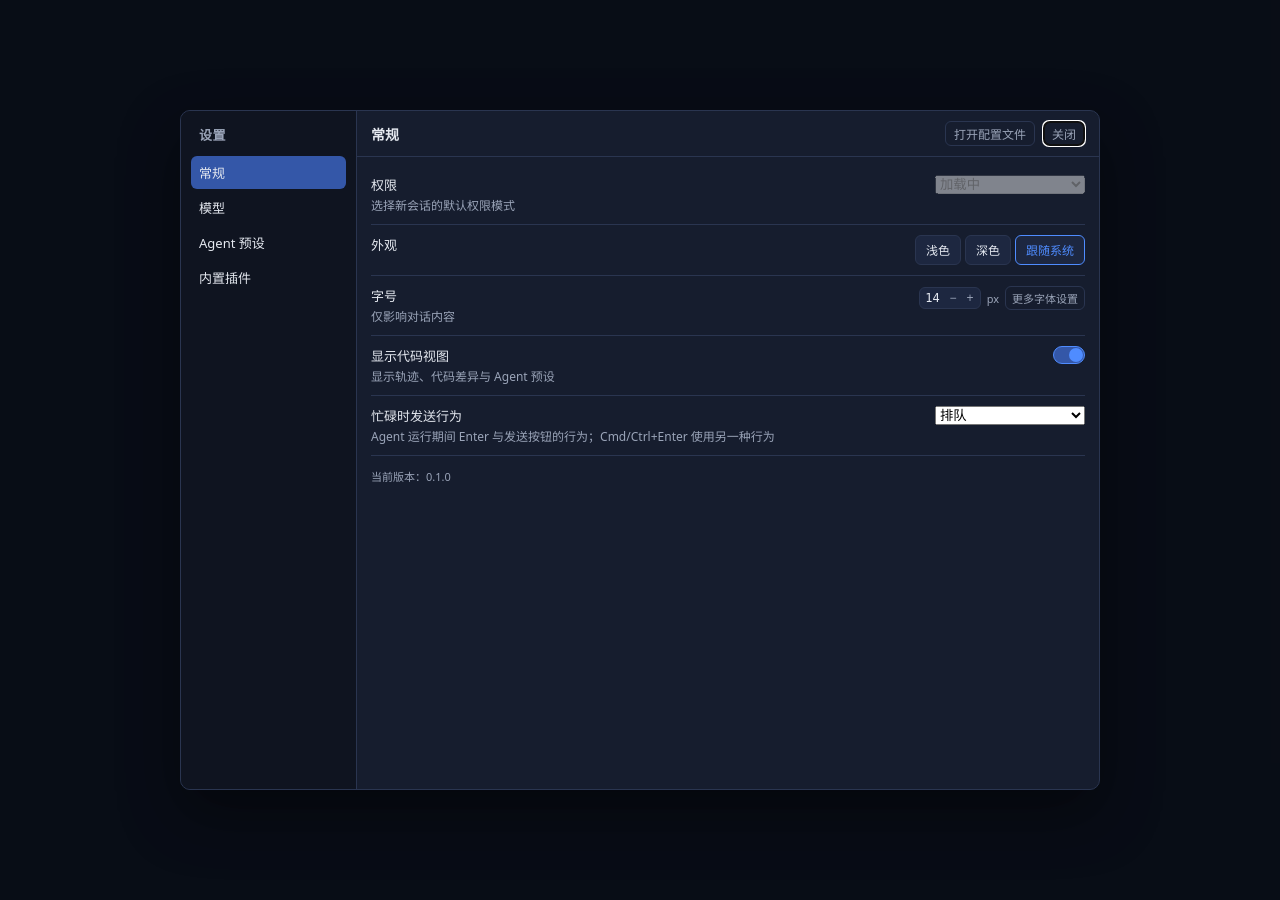
SettingsAgentPresets › lists presets and loads document content on expand
Click the button "Agent 预设" at (268, 242), box [191,226,346,259]
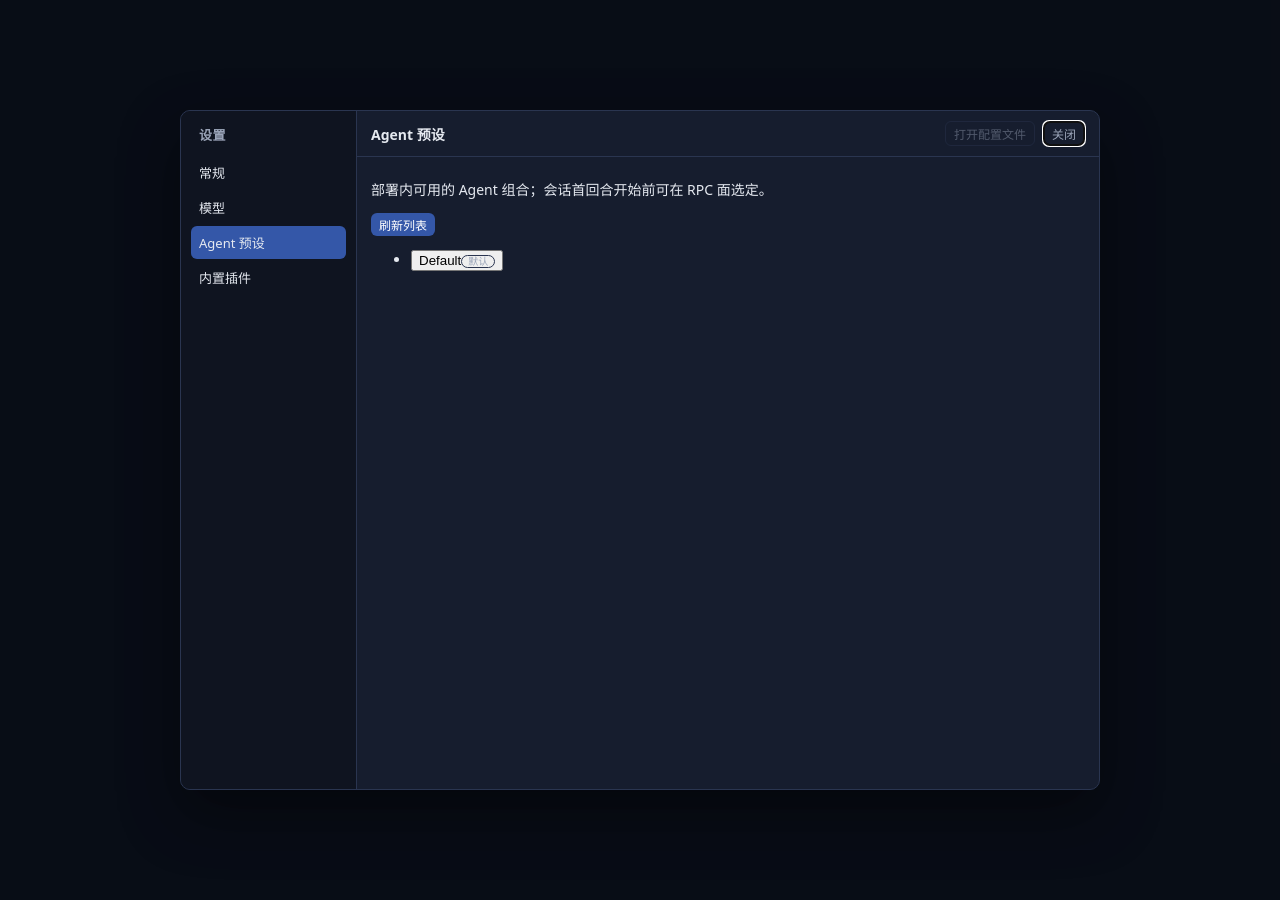
Expected: the text "Default" is shown, [419,253,461,268]
Click the button named "Default 默认" at (457, 260), box [411,250,503,271]
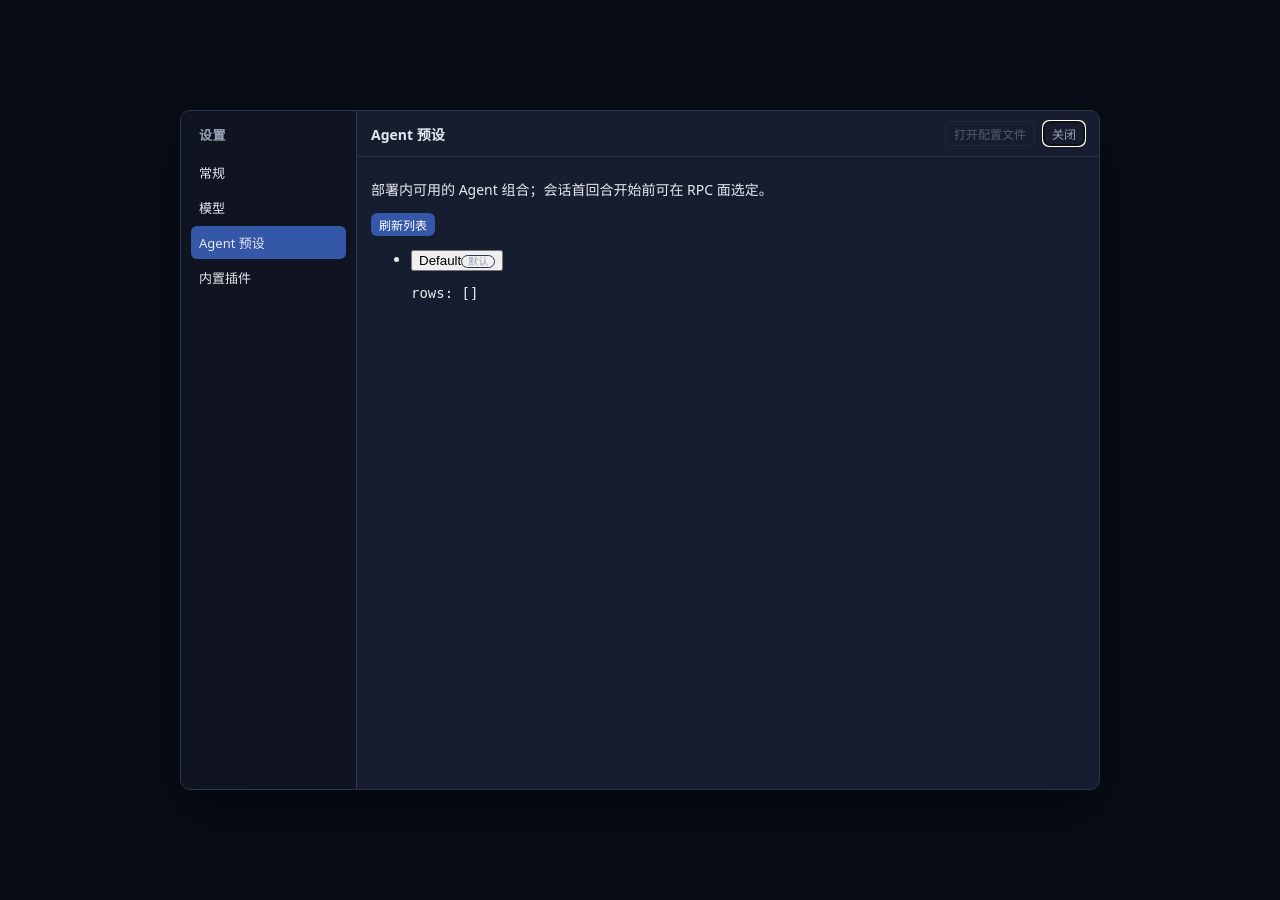
Expected: the text "rows: []" is shown, [411,285,478,301]
